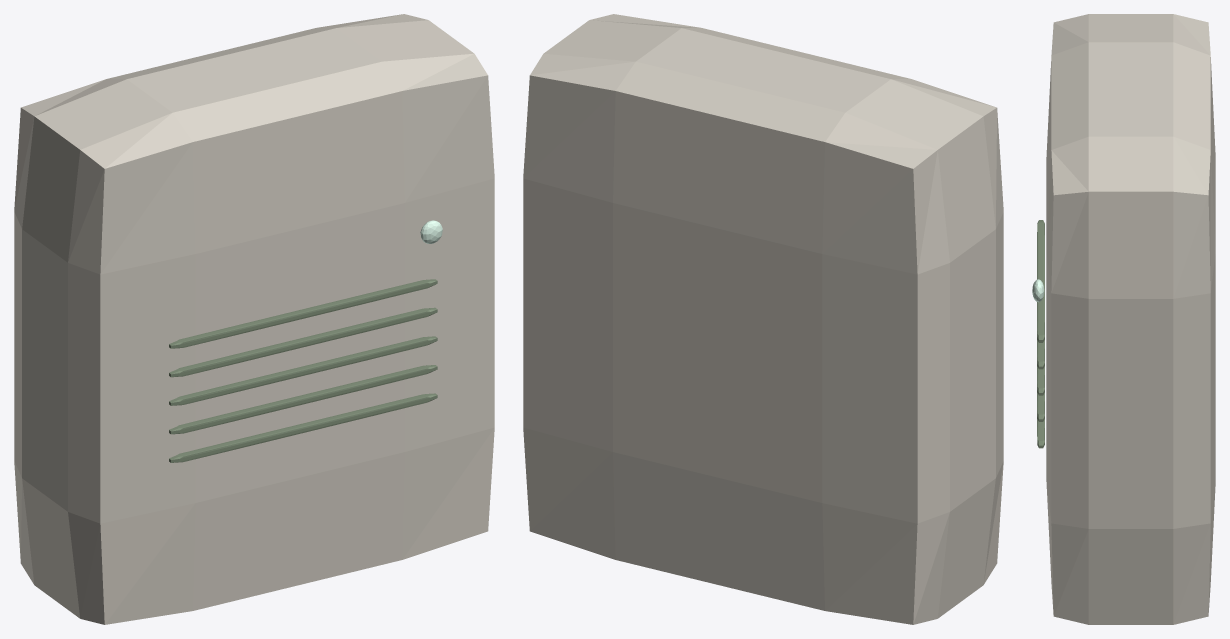
The model's file is better.glb.
The picture shows the model from 3 angles, left to right: view 1: azimuth 30°, elevation 25°; view 2: azimuth 150°, elevation 25°; view 3: azimuth 270°, elevation 25°; orthographic projection. The views are drawn at different scales.
Visible parts, largest first — view 1: Native component 0, Native component 2; view 2: Native component 0; view 3: Native component 0, Native component 2.
Part boxes in pixels (box(x1,y1,x2,y2)): Native component 0: box(14, 14, 494, 624); Native component 2: box(169, 279, 437, 462); Native component 0: box(523, 14, 1003, 624); Native component 0: box(1046, 14, 1215, 624); Native component 2: box(1037, 220, 1044, 448).
Size of the model in its own units: 0.66 by 0.75 by 0.271.
